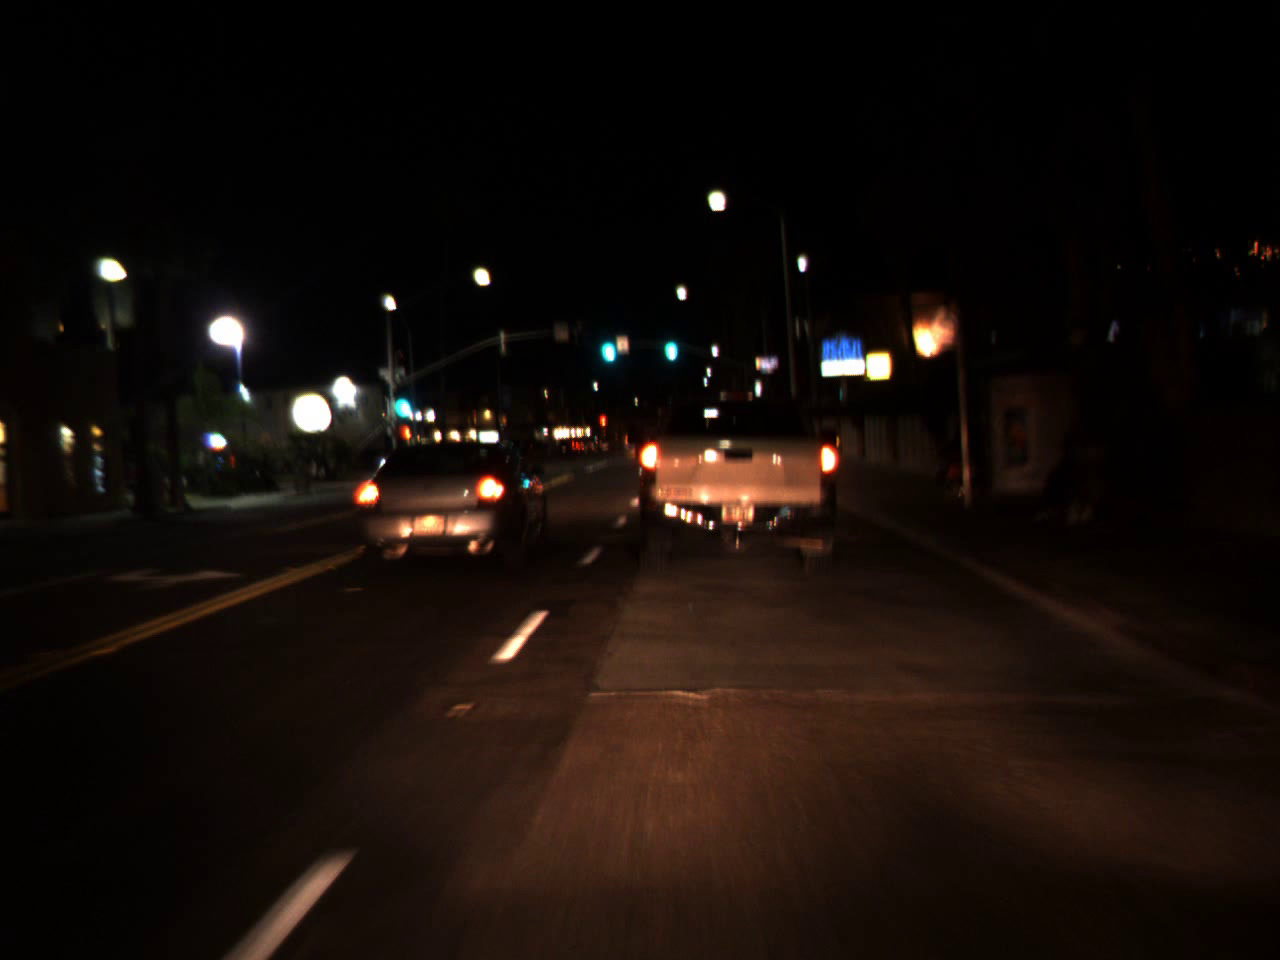go: (595, 318, 618, 369), (388, 374, 409, 425), (660, 319, 679, 367)
